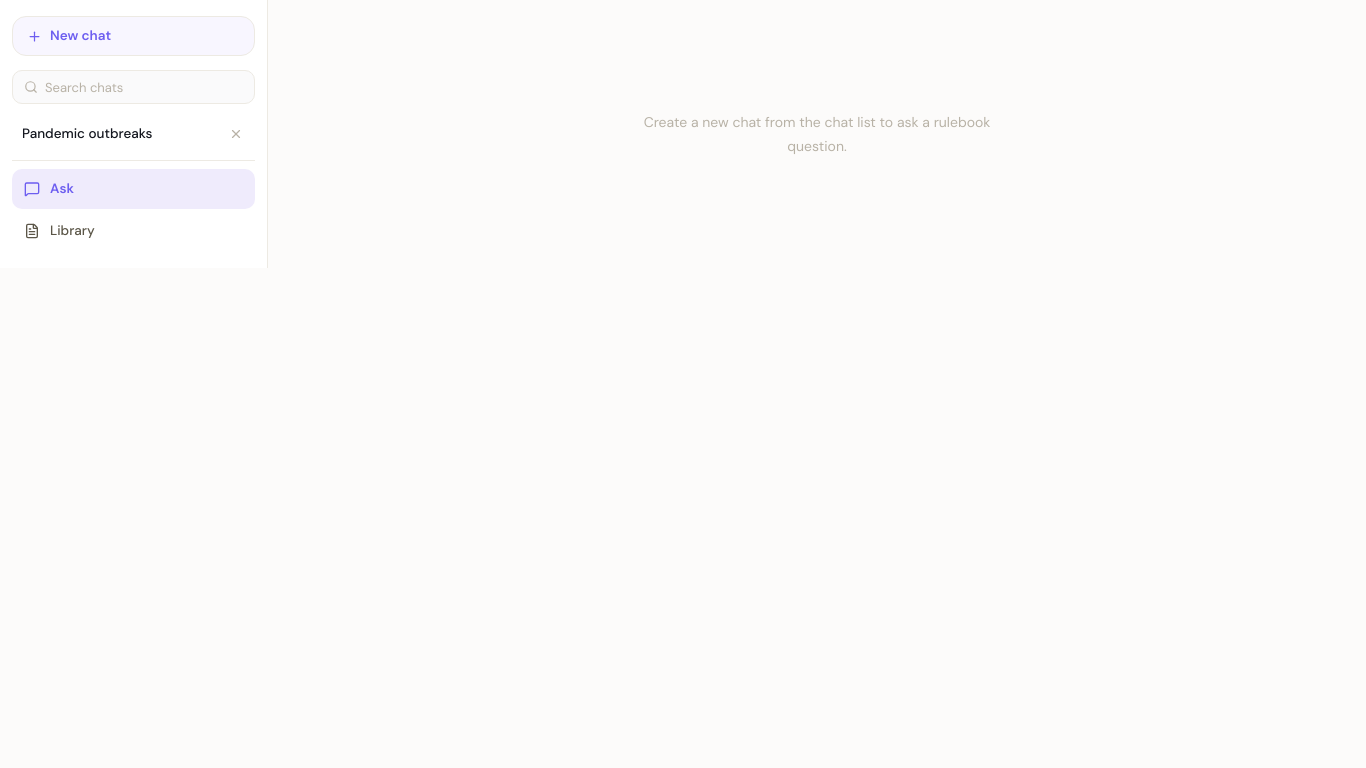
Test: ChatPage › keeps the current chat selected when history loading fails
Click the button with test id "ask-new-chat-btn" at (134, 36), box [12,16,255,56]
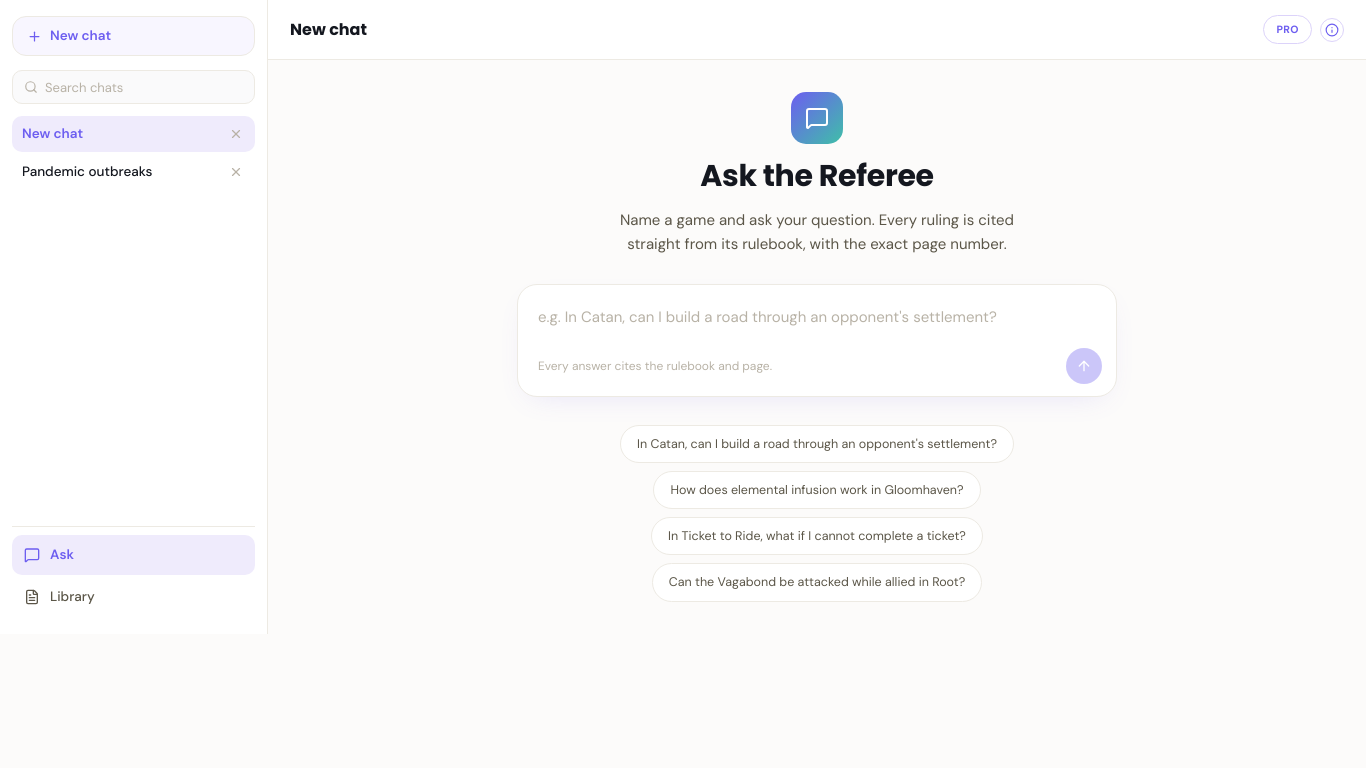
Click the button with test id "chat-select-conversation-2-btn" at (134, 172), box [12,154,255,190]
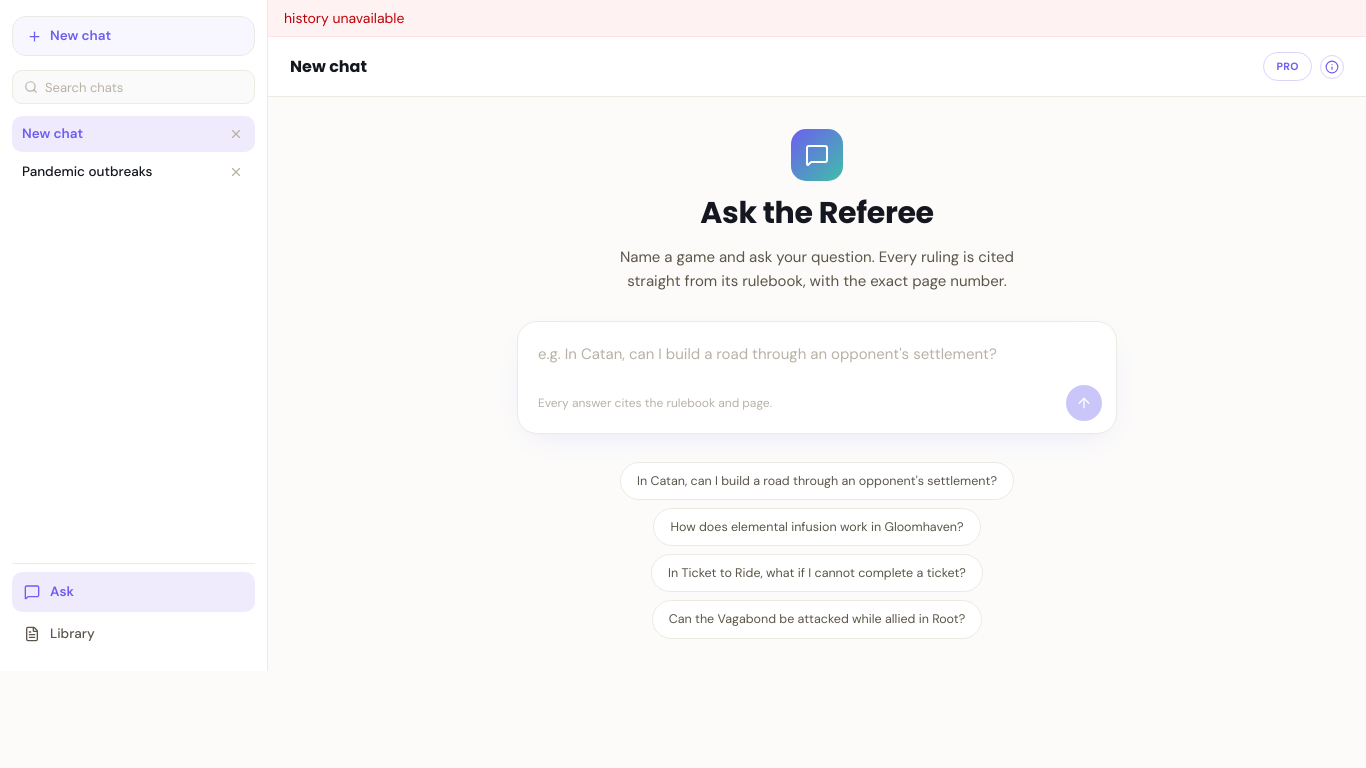
expect the 1st button "New chat" is shown: met, box [12,16,255,56]
expect the heading "Ask the Referee" is shown: met, box [700,195,934,232]
expect the message reads "history unavailable": met, box [284,9,404,27]
